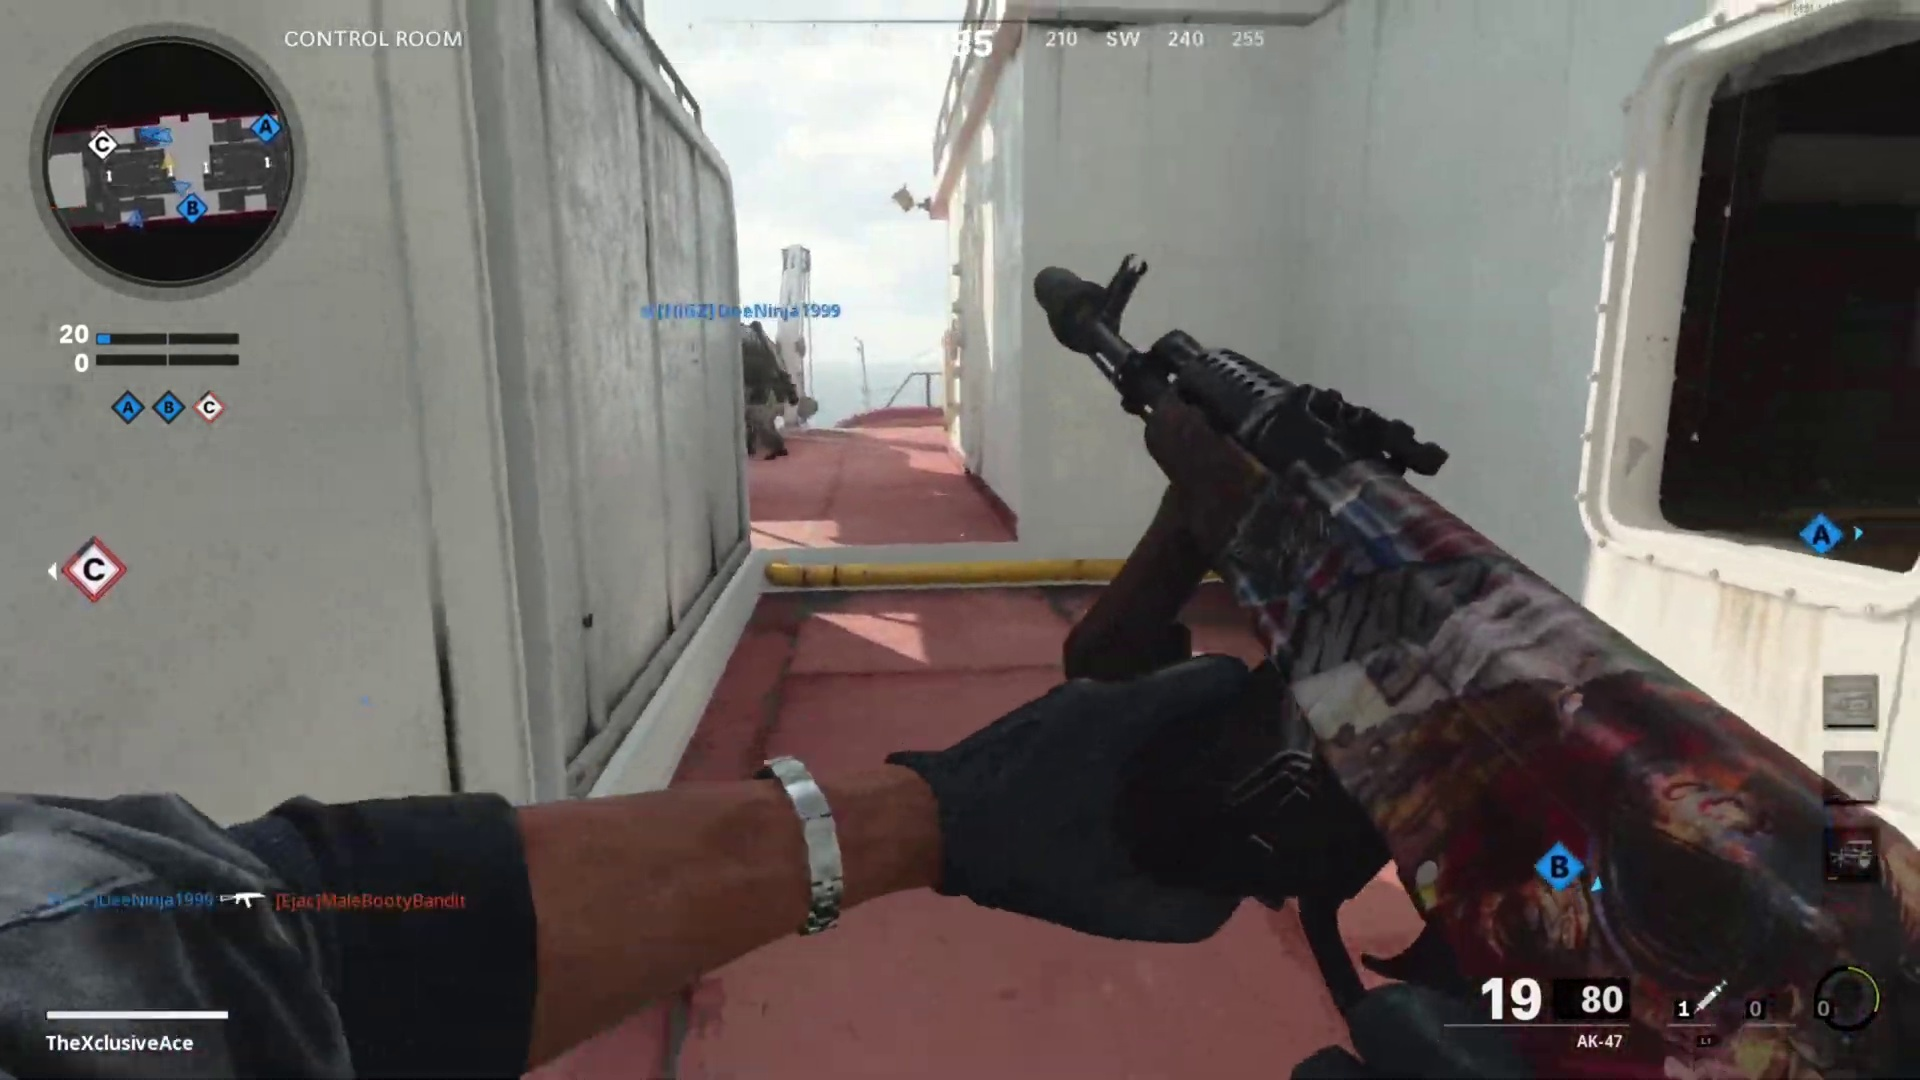person: (738, 319, 791, 457)
